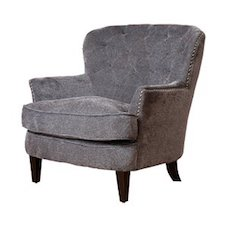chair: (10, 26, 212, 213)
